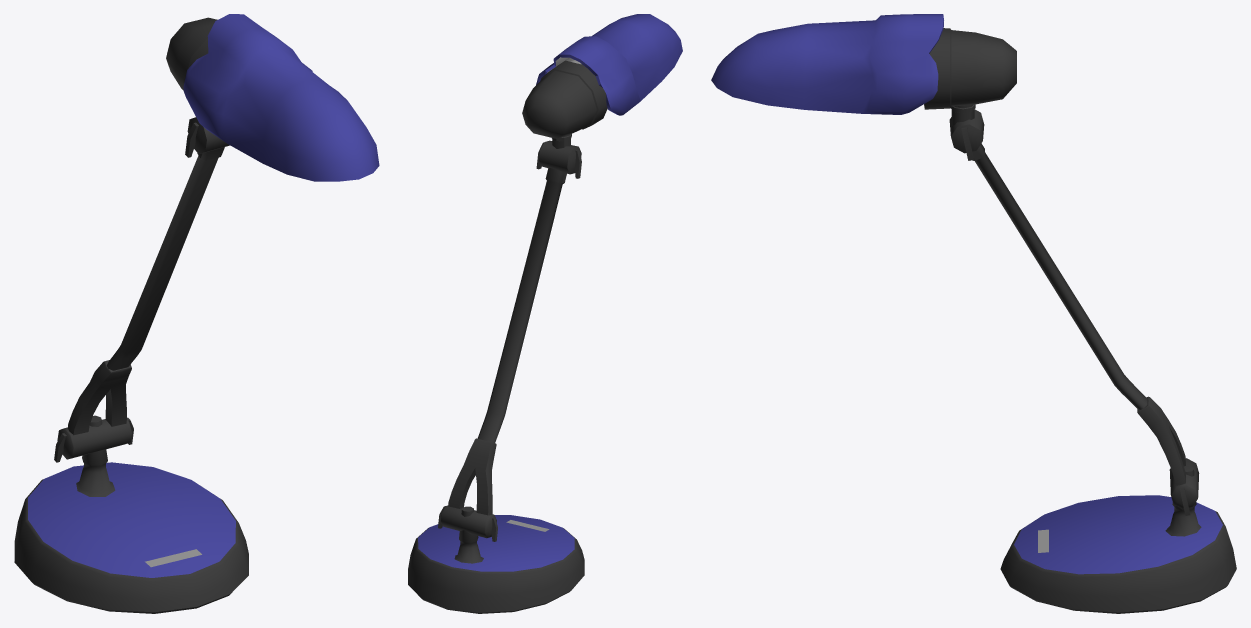
Rendered from MTHY1T04.FBX.
The picture shows the model from 3 angles, left to right: view 1: azimuth 30°, elevation 25°; view 2: azimuth 150°, elevation 25°; view 3: azimuth 270°, elevation 25°; orthographic projection. The views are drawn at different scales.
Visible parts, largest first — view 1: MTHY1T04; view 2: MTHY1T04; view 3: MTHY1T04.
Part boxes in pixels (x1,y1,x2,y2): MTHY1T04: (14,14,379,613); MTHY1T04: (408,14,682,613); MTHY1T04: (711,14,1236,613).
Size of the model in its own units: 15.55 by 39.64 by 46.13.
